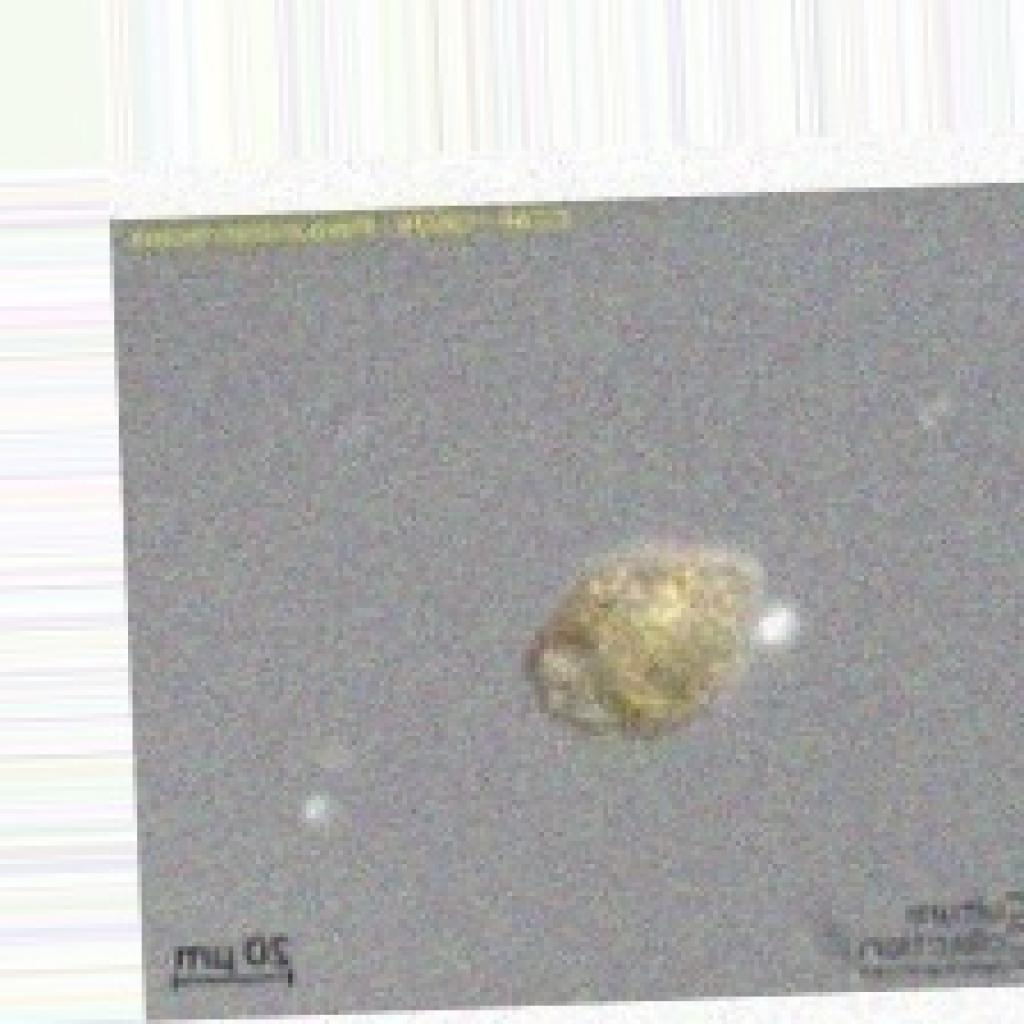Microalgae: (521, 535, 768, 740)
